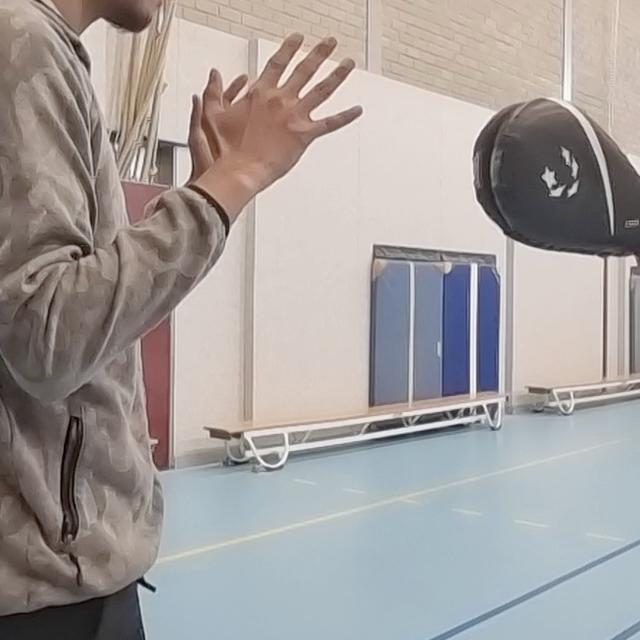paddle: (464, 93, 640, 263)
